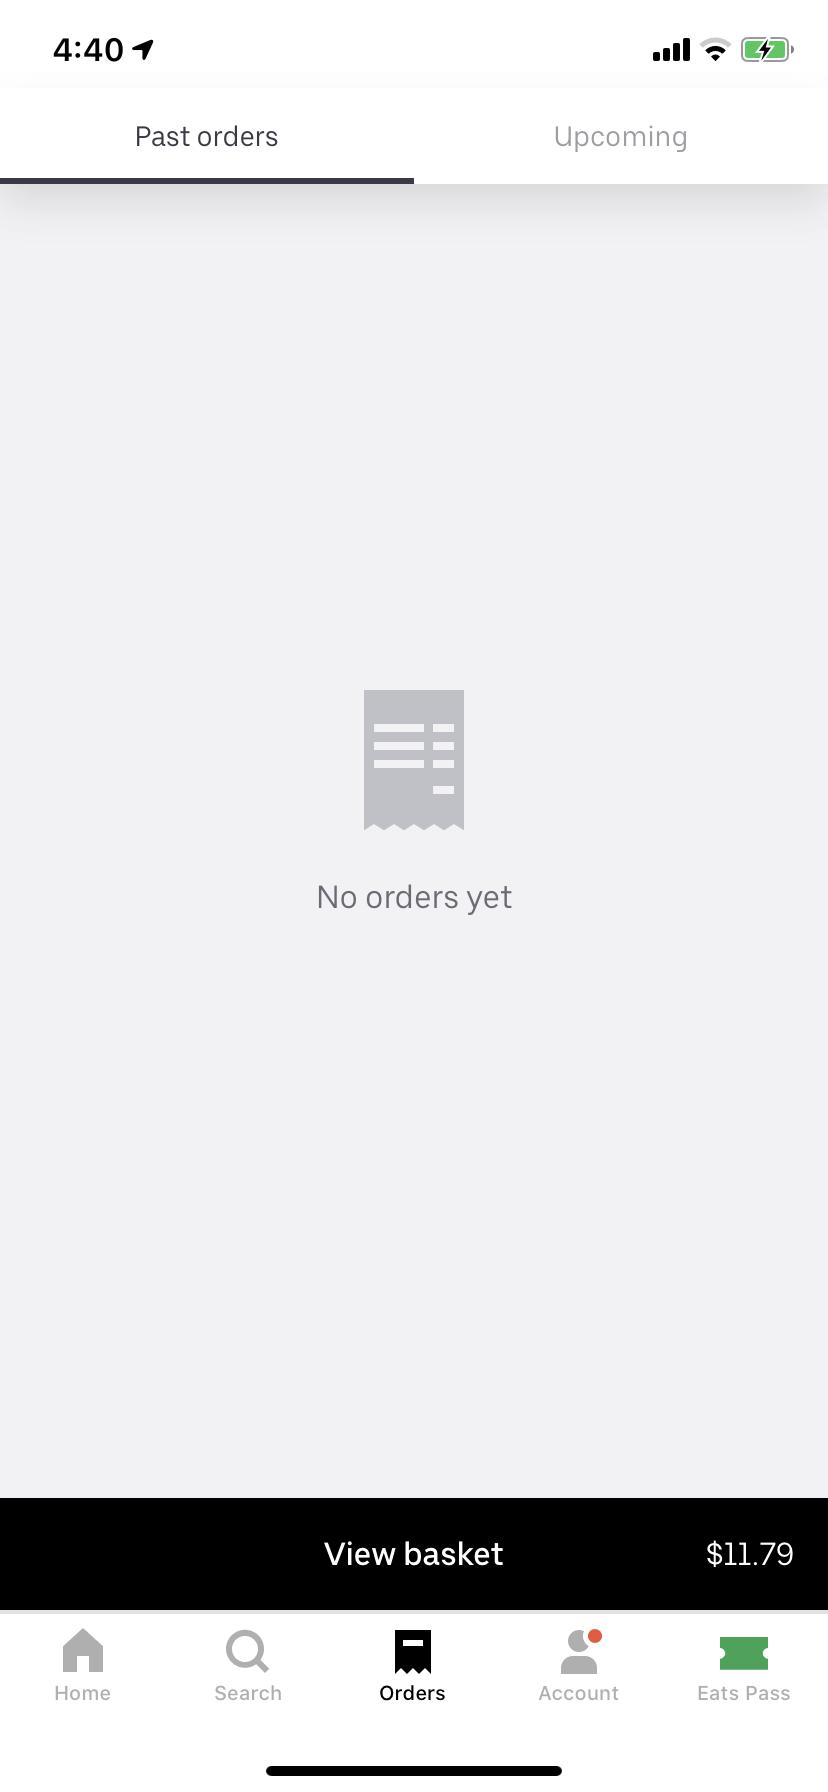Buttons: (1, 1493, 828, 1615)
